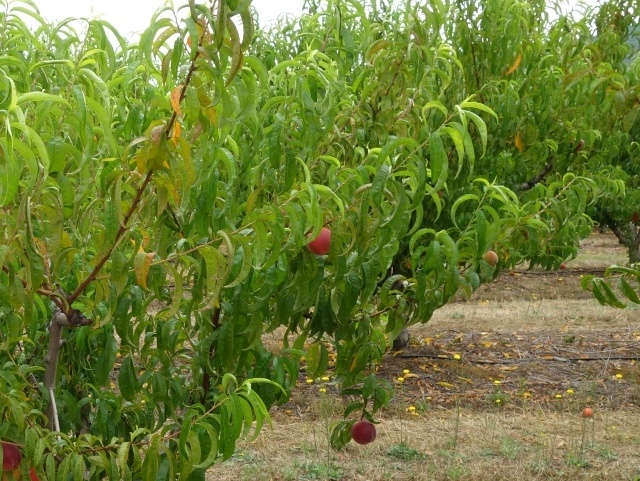peach: (302, 224, 337, 257), (348, 416, 379, 447), (1, 436, 25, 472), (479, 247, 501, 268)
